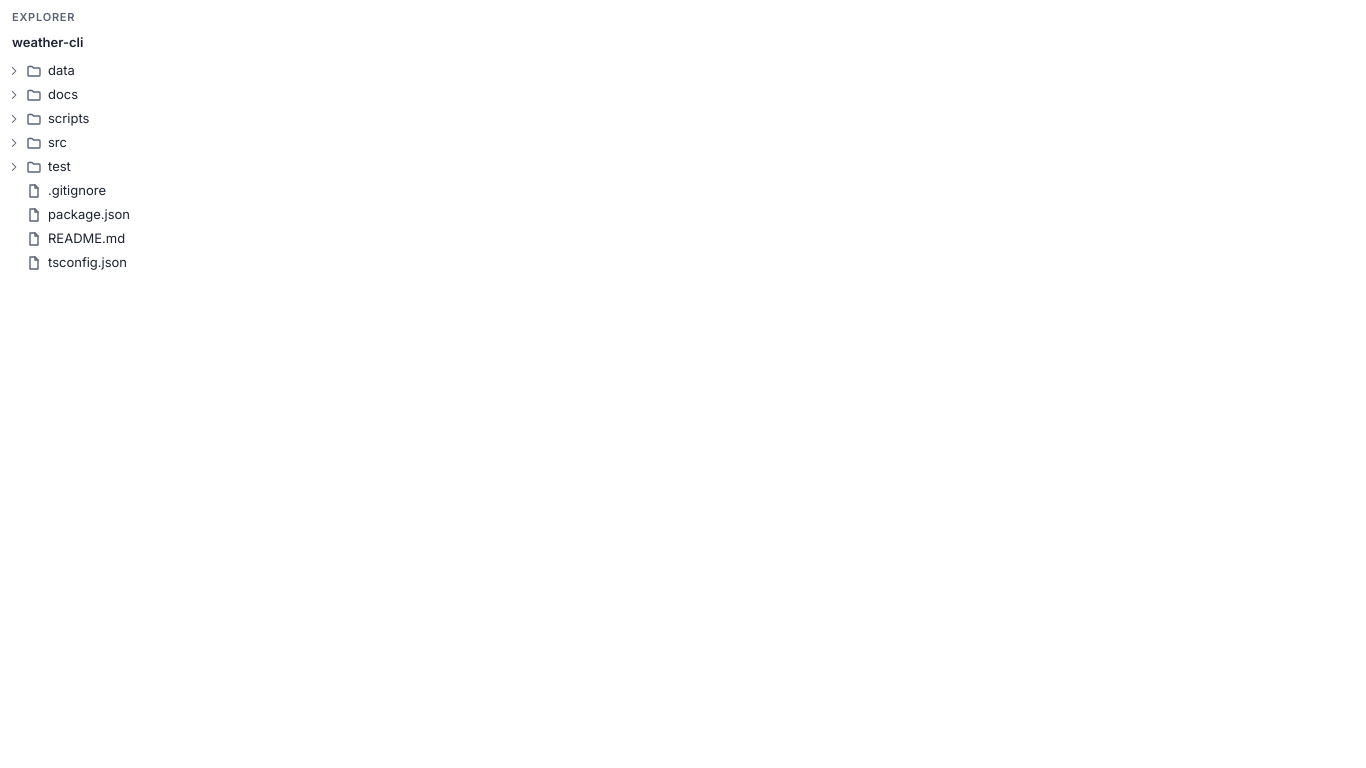
Test case: ExplorerContextMenu › Delete key on a focused row opens the confirmation
expect the button with test id "tree-row-package.json" is shown: met, box [0,203,1365,227]
Click the button with test id "tree-row-src". click: (14, 143)
box: [0,131,1365,155]
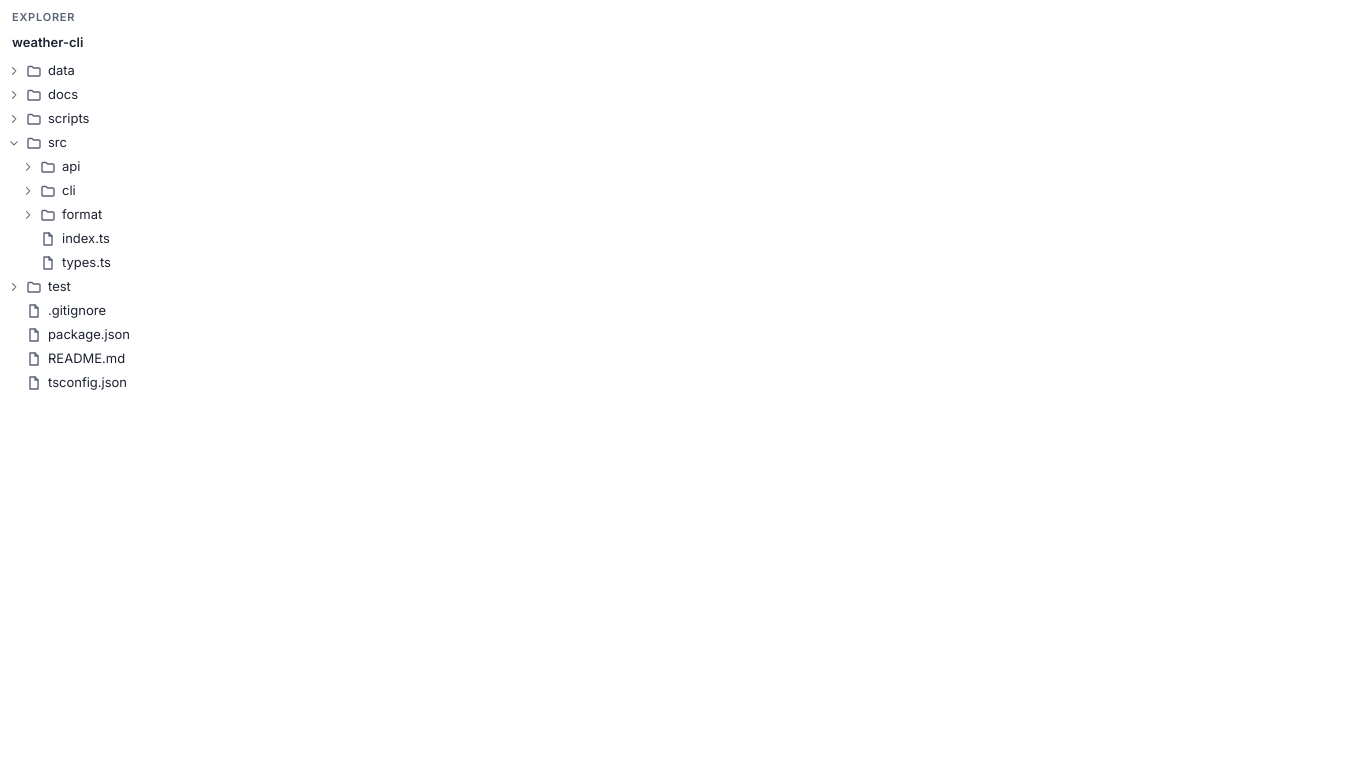
Press Delete in the button with test id "tree-row-index.ts", box [0,227,1365,251]
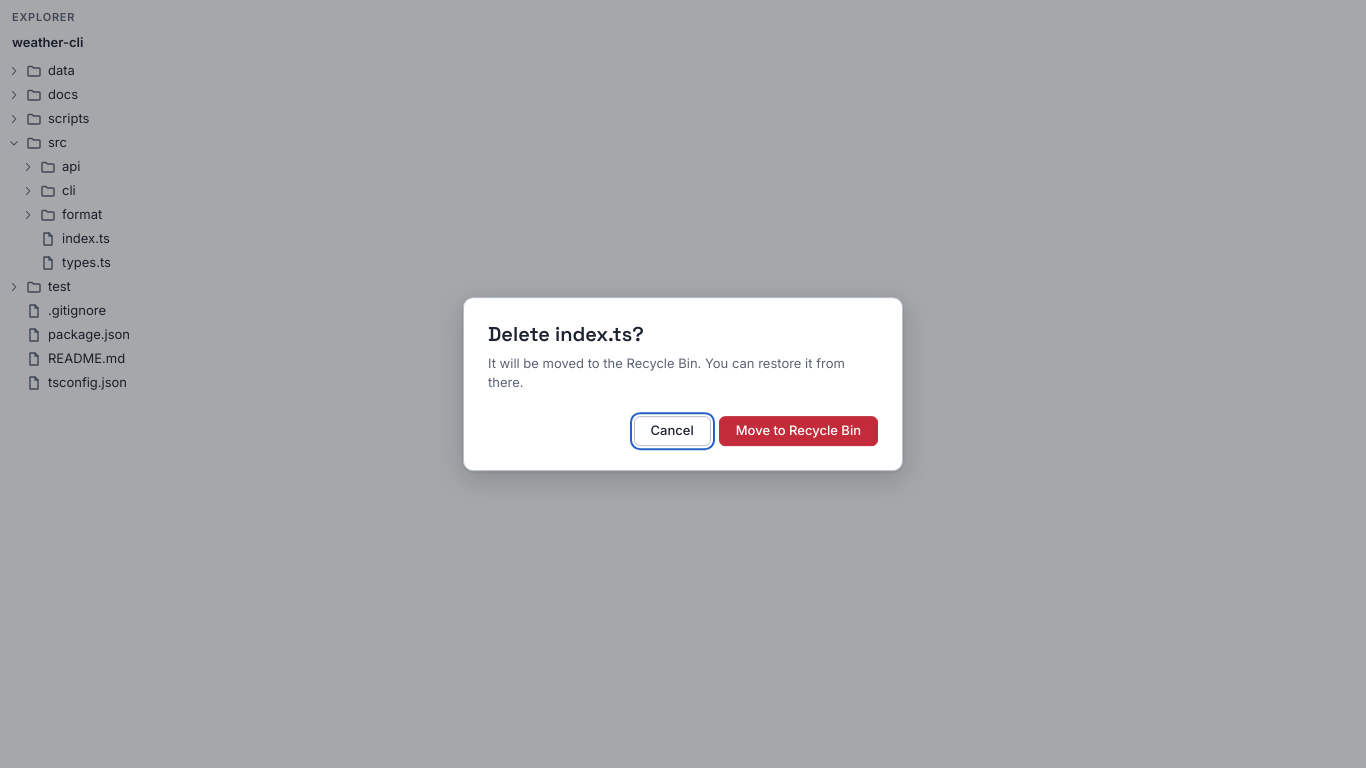
expect the dialog shows "Delete index.ts?": met, box [488,321,644,347]
